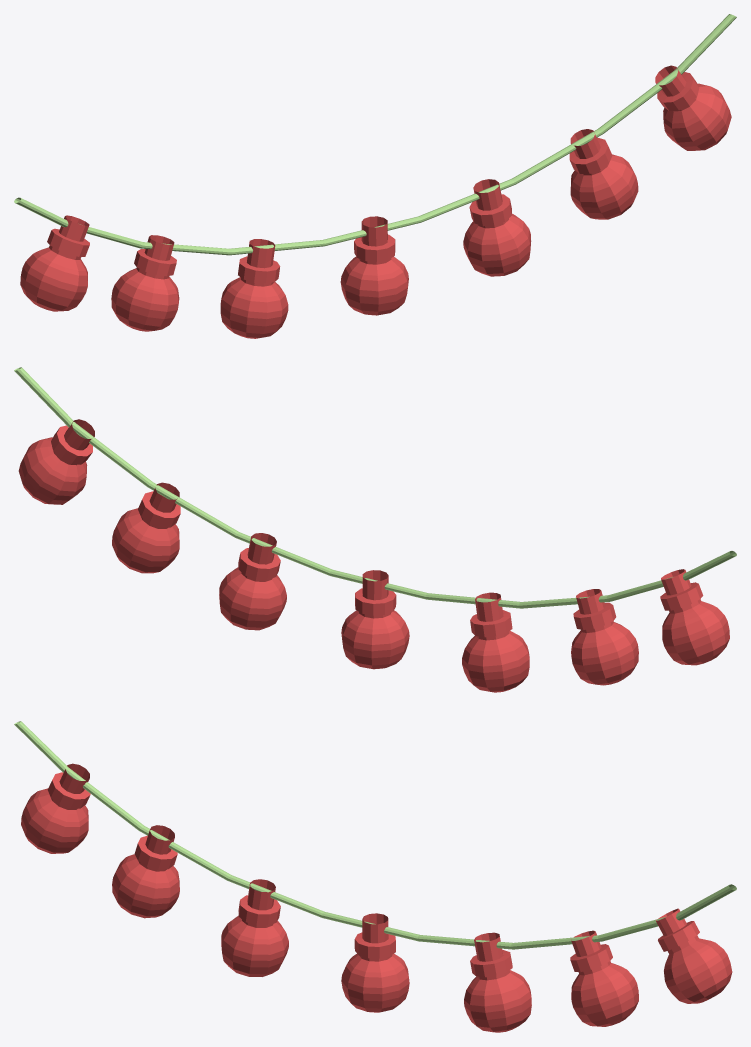
File: luces.fbx
3 renders of one model, top to bottom at view 1: azimuth 30°, elevation 25°; view 2: azimuth 150°, elevation 25°; view 3: azimuth 330°, elevation 25°, orthographic.
Visible parts, largest first — view 1: luces_2; view 2: luces_2; view 3: luces_2.
Boxes of the visible parts, x1,y1,x2,y2 form: luces_2: [14, 14, 736, 338]; luces_2: [14, 367, 736, 692]; luces_2: [14, 721, 736, 1032].
Size of the model in its own units: 122 by 33.91 by 10.04.
